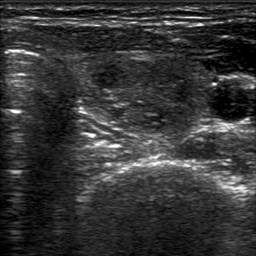mass: (83, 50, 207, 136)
